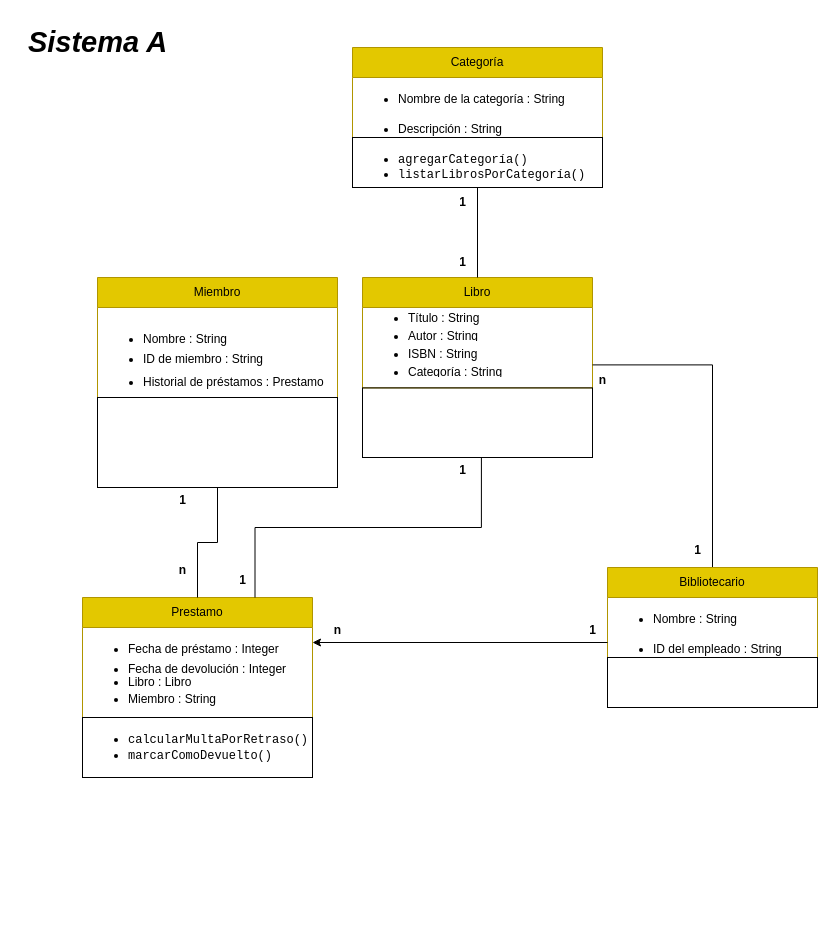
The diagram is 835 pixels wide and 949 high, and some of its shapes have lost their labels. Here are the shapes that lost their labels. From the top down, the centre of each, then its label:
At pixel 217 442: "registrarMiembro() verHistorial()".
At pixel 477 422: "verificarDisponibilidad() asignarCategoría()".
At pixel 712 682: "registrarLibros() gestionarPréstamos()".
